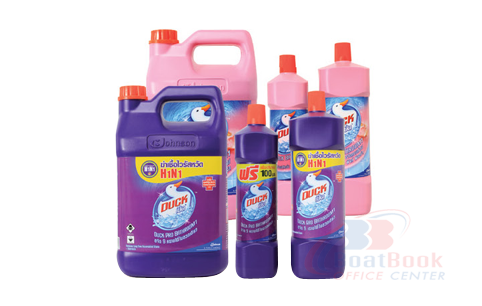Cleaning_solution: (112, 80, 230, 281), (288, 88, 348, 281), (316, 40, 374, 217), (232, 100, 280, 281), (267, 52, 309, 219)
